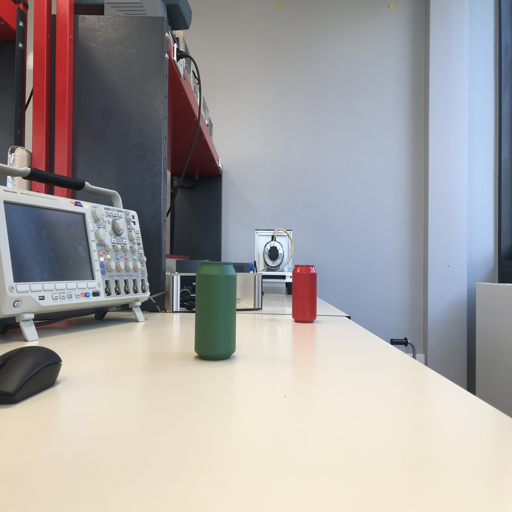Green_Can: (192, 260, 238, 360)
Red_Can: (291, 262, 317, 323)
